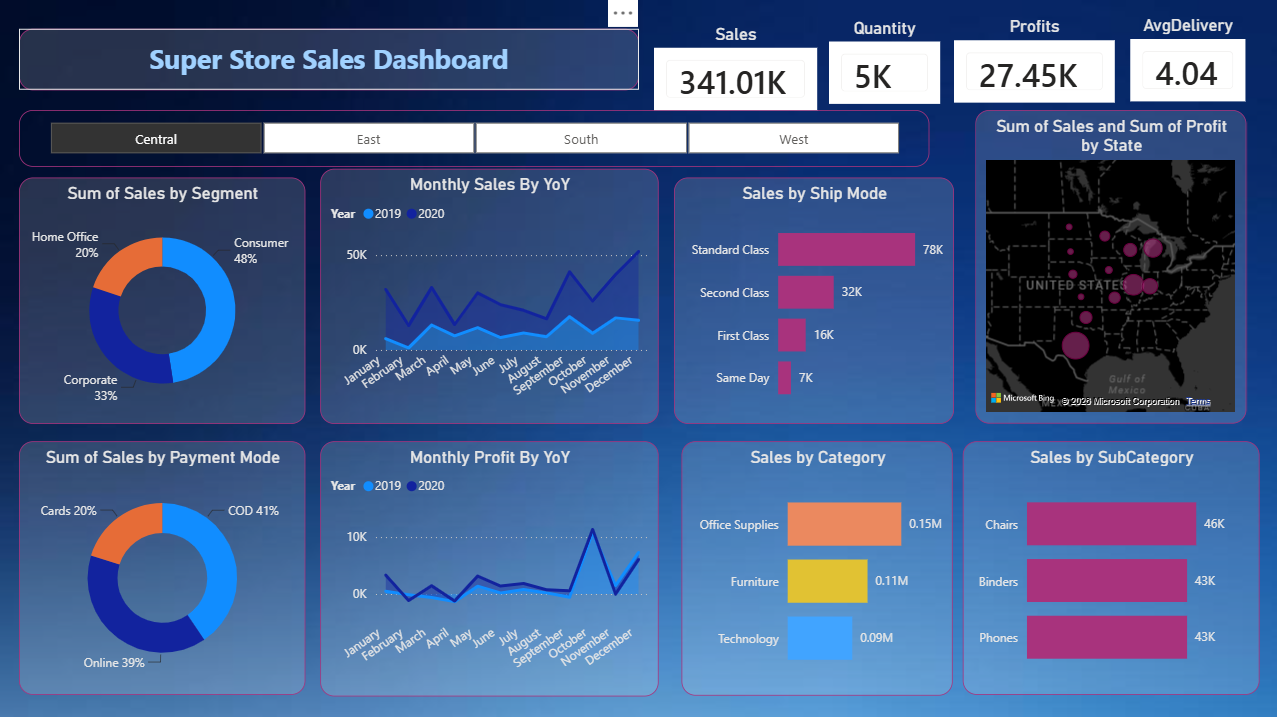

This screenshot's page, from the dashboard's own definition file:
{"tool":"powerbi","page":{"name":"Page 1","canvas":[1280,720],"ordinal":0},"visuals":[{"type":"clusteredBarChart","title":"Sales by Category","fields":{"Category":["SuperStore_Sales_Dataset.Category"],"Y":["Sum(SuperStore_Sales_Dataset.Sales)"]},"box":[682.8,441.6,271.4,254.6],"z":0},{"type":"clusteredBarChart","title":"Sales by SubCategory","fields":{"Category":["SuperStore_Sales_Dataset.Sub-Category"],"Y":["Sum(SuperStore_Sales_Dataset.Sales)"]},"box":[963.3,441.7,296.7,253.3],"z":1000},{"type":"clusteredBarChart","title":"Sales by Ship Mode","fields":{"Category":["SuperStore_Sales_Dataset.Ship Mode"],"Y":["Sum(SuperStore_Sales_Dataset.Sales)"]},"box":[674.4,177.3,279.9,246.1],"z":2000},{"type":"stackedAreaChart","title":"Monthly Sales By YoY","fields":{"Y":["Sum(SuperStore_Sales_Dataset.Sales)"],"Category":["SuperStore_Sales_Dataset.Order Date.Variation.Date Hierarchy.Month","SuperStore_Sales_Dataset.Order Date.Variation.Date Hierarchy.Day"],"Series":["SuperStore_Sales_Dataset.Order Date.Variation.Date Hierarchy.Year"]},"box":[321.7,168.3,338.3,255],"z":3000},{"type":"stackedAreaChart","title":"Monthly Profit By YoY","fields":{"Category":["SuperStore_Sales_Dataset.Order Date.Variation.Date Hierarchy.Month","SuperStore_Sales_Dataset.Order Date.Variation.Date Hierarchy.Day"],"Series":["SuperStore_Sales_Dataset.Order Date.Variation.Date Hierarchy.Year"],"Y":["Sum(SuperStore_Sales_Dataset.Profit)"]},"box":[321.7,441.7,338.3,255],"z":4000},{"type":"map","fields":{"Category":["SuperStore_Sales_Dataset.State"],"Size":["Sum(SuperStore_Sales_Dataset.Sales)"]},"box":[976.7,110,270,313.3],"z":5000},{"type":"donutChart","fields":{"Category":["SuperStore_Sales_Dataset.Segment"],"Y":["Sum(SuperStore_Sales_Dataset.Sales)"]},"box":[20,188.3,286.7,253.3],"z":6000},{"type":"donutChart","fields":{"Category":["SuperStore_Sales_Dataset.Payment Mode"],"Y":["Sum(SuperStore_Sales_Dataset.Sales)"]},"box":[20,455,286.7,240],"z":7000},{"type":"slicer","fields":{"Values":["SuperStore_Sales_Dataset.Region"]},"box":[20,110,910,56.7],"z":8000},{"type":"textbox","box":[20,28.3,620,61.7],"z":9000},{"type":"cardVisual","title":"Sales","fields":{"Data":["Sum(SuperStore_Sales_Dataset.Sales)"]},"box":[659.9,14.5,137.5,86.9],"z":10000},{"type":"cardVisual","title":"Quantity","fields":{"Data":["Sum(SuperStore_Sales_Dataset.Quantity)"]},"box":[819.2,14.5,111,86.9],"z":10001},{"type":"cardVisual","title":"Profits","fields":{"Data":["Sum(SuperStore_Sales_Dataset.Profit)"]},"box":[950.7,13.3,161.7,86.9],"z":10002},{"type":"cardVisual","title":"AvgDelivery","fields":{"Data":["Avg(SuperStore_Sales_Dataset.AvgDelivery)"]},"box":[1131.6,14.5,115.8,86.9],"z":10003}]}

Visuals, with their boxes in screenshot pixels (x1, y1, x2, y2), scaled from the page's 1280x720 canvas onto the 1277x717 screenshot:
"Sales by Category" clusteredBarChart: locate(681, 440, 952, 693)
"Sales by SubCategory" clusteredBarChart: locate(961, 440, 1257, 692)
"Sales by Ship Mode" clusteredBarChart: locate(673, 177, 952, 422)
"Monthly Sales By YoY" stackedAreaChart: locate(321, 168, 658, 422)
"Monthly Profit By YoY" stackedAreaChart: locate(321, 440, 658, 694)
map - SuperStore_Sales_Dataset.State x Sum(SuperStore_Sales_Dataset.Sales): locate(974, 110, 1244, 422)
donutChart - SuperStore_Sales_Dataset.Segment x Sum(SuperStore_Sales_Dataset.Sales): locate(20, 188, 306, 440)
donutChart - SuperStore_Sales_Dataset.Payment Mode x Sum(SuperStore_Sales_Dataset.Sales): locate(20, 453, 306, 692)
slicer - SuperStore_Sales_Dataset.Region: locate(20, 110, 928, 166)
textbox: locate(20, 28, 638, 90)
"Sales" cardVisual: locate(658, 14, 796, 101)
"Quantity" cardVisual: locate(817, 14, 928, 101)
"Profits" cardVisual: locate(948, 13, 1110, 100)
"AvgDelivery" cardVisual: locate(1129, 14, 1244, 101)
